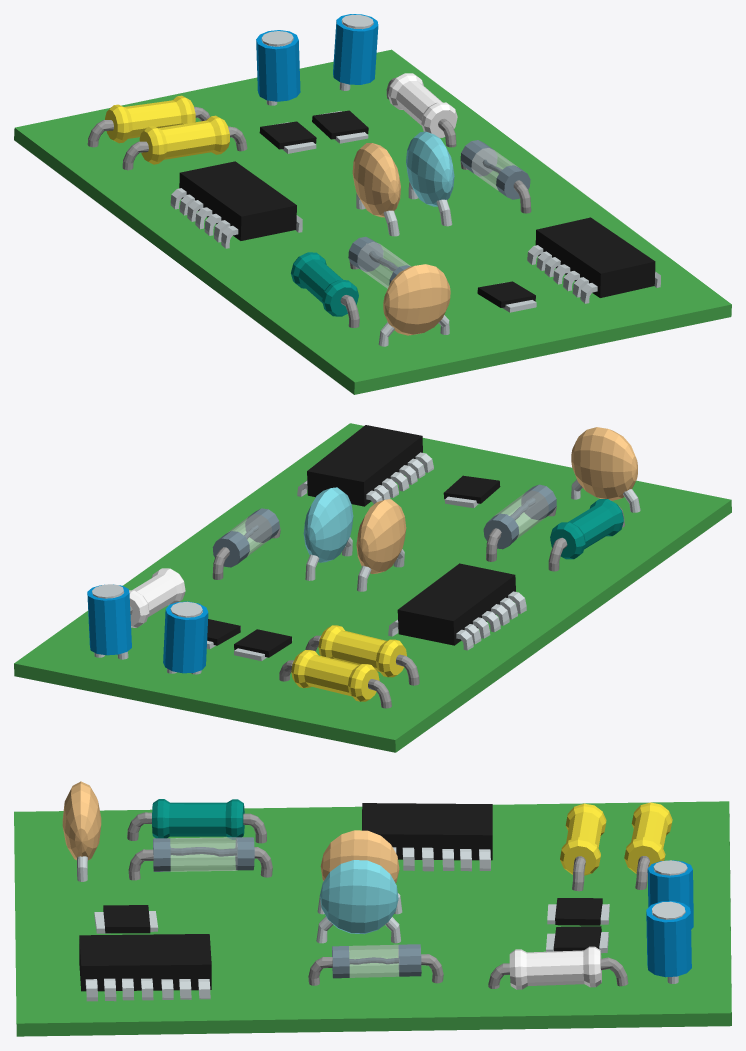
The model's file is motherboard.glb.
3 views of the same model, one above another, from view 1: azimuth 30°, elevation 25°; view 2: azimuth 150°, elevation 25°; view 3: azimuth 270°, elevation 25° (orthographic). The views are drawn at different scales.
Parts seen in each view (by area): view 1: group502520534, group2135967221, group1769250652, group684972054, group531468861, group375345493, group378068505, group826636348, group1463279788, group1068192779, group1949913493, group664017250 (+5 smaller); view 2: group502520534, group2135967221, group1769250652, group684972054, group826636348, group375345493, group531468861, group378068505, group1463279788, group1068192779, group664017250, group1238052222 (+5 smaller); view 3: group502520534, group1769250652, group2135967221, group375345493, group1238052222, group664017250, group1949913493, group1096772465, group1068192779, group531468861, group684972054, group826636348 (+5 smaller).
Part boxes in pixels (x1,y1,x2,y2): group502520534: (14,49,731,394); group2135967221: (170,161,302,248); group1769250652: (527,217,660,303); group684972054: (378,264,450,346); group531468861: (122,115,247,170); group375345493: (406,131,454,226); group378068505: (352,143,400,236); group826636348: (87,95,210,147); group1463279788: (256,30,300,105); group1068192779: (333,14,378,90); group1949913493: (386,73,457,147); group664017250: (291,252,359,327); group502520534: (14,423,731,752); group2135967221: (388,563,526,650); group1769250652: (297,425,433,506); group684972054: (571,427,640,512); group826636348: (279,650,391,708); group375345493: (303,487,353,580); group531468861: (305,625,419,685); group378068505: (356,499,406,591); group1463279788: (163,601,208,674); group1068192779: (87,584,131,659); group664017250: (548,499,624,571); group1238052222: (483,484,556,561); group502520534: (14,801,731,1036); group1769250652: (79,934,211,1001); group2135967221: (362,803,492,871); group375345493: (316,860,400,943); group1238052222: (128,837,272,880); group664017250: (127,799,266,843); group1949913493: (488,946,628,989); group1096772465: (308,944,443,985); group1068192779: (646,901,691,983); group531468861: (560,803,606,891); group684972054: (62,781,101,881); group826636348: (624,802,672,889).
Bounding box in the file's own units: 0.9195 × 0.2308 × 1.41.
